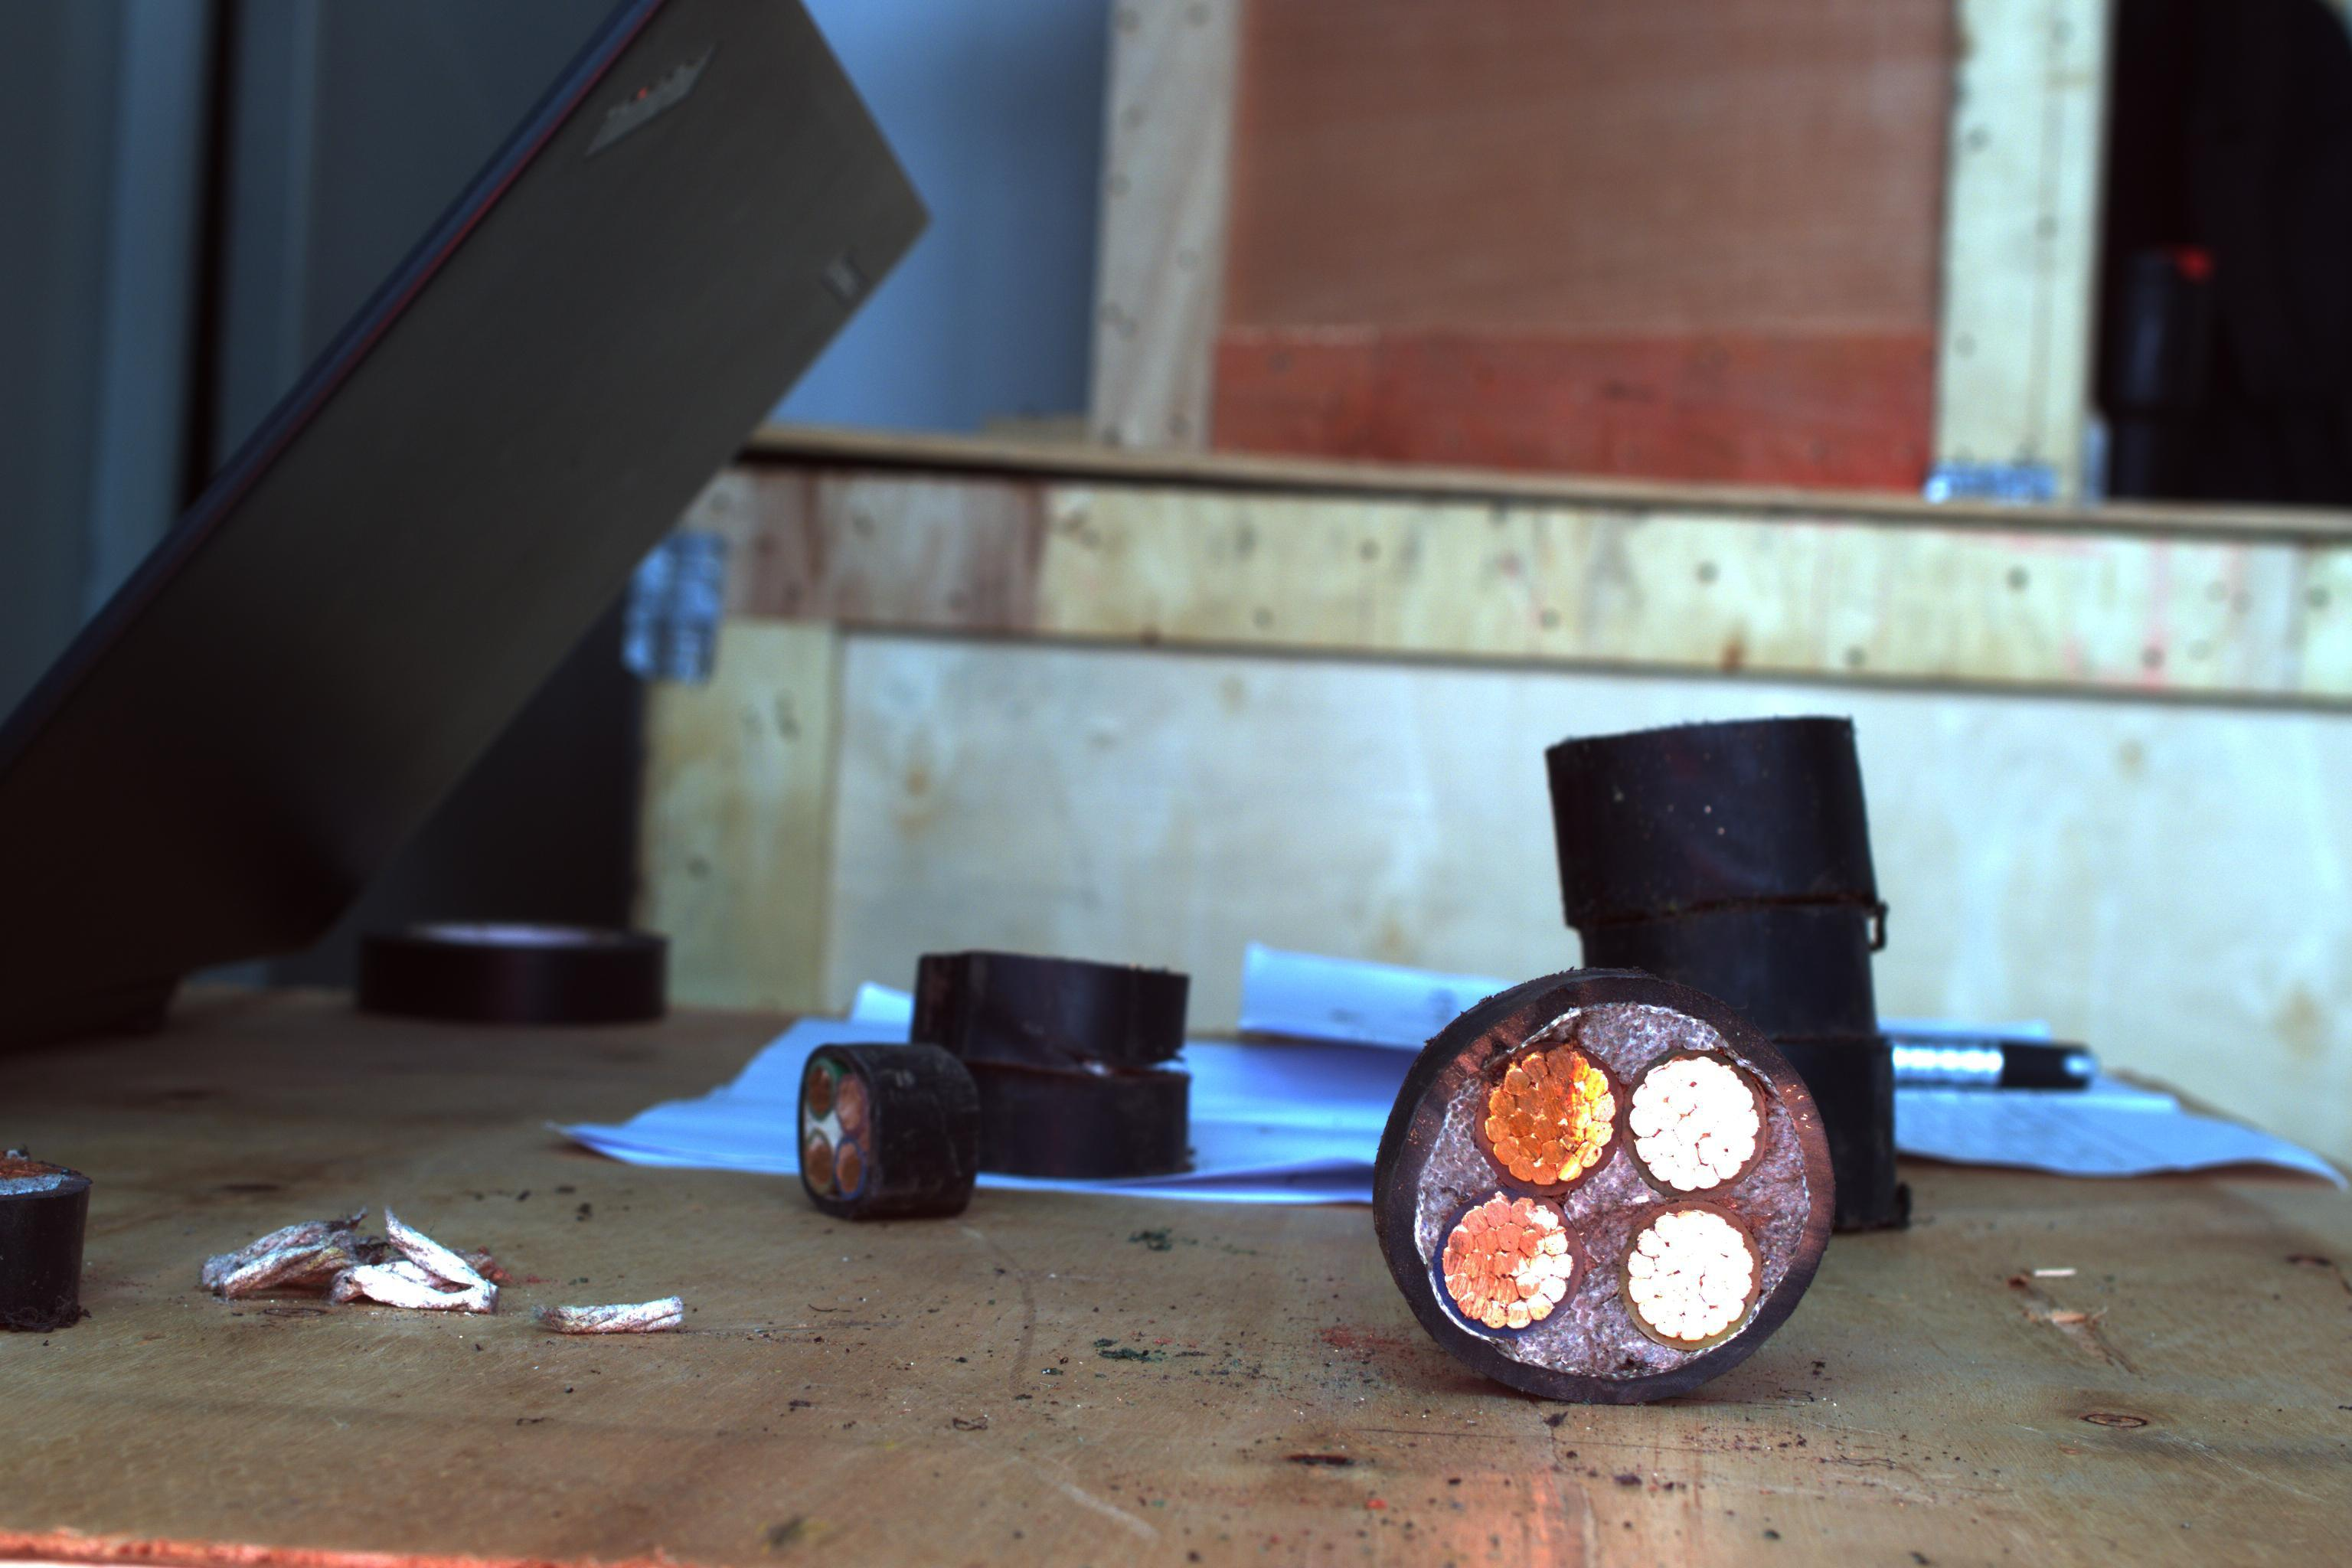YJV_0.6_1kV_4x120: (1372, 994, 1822, 1414)
